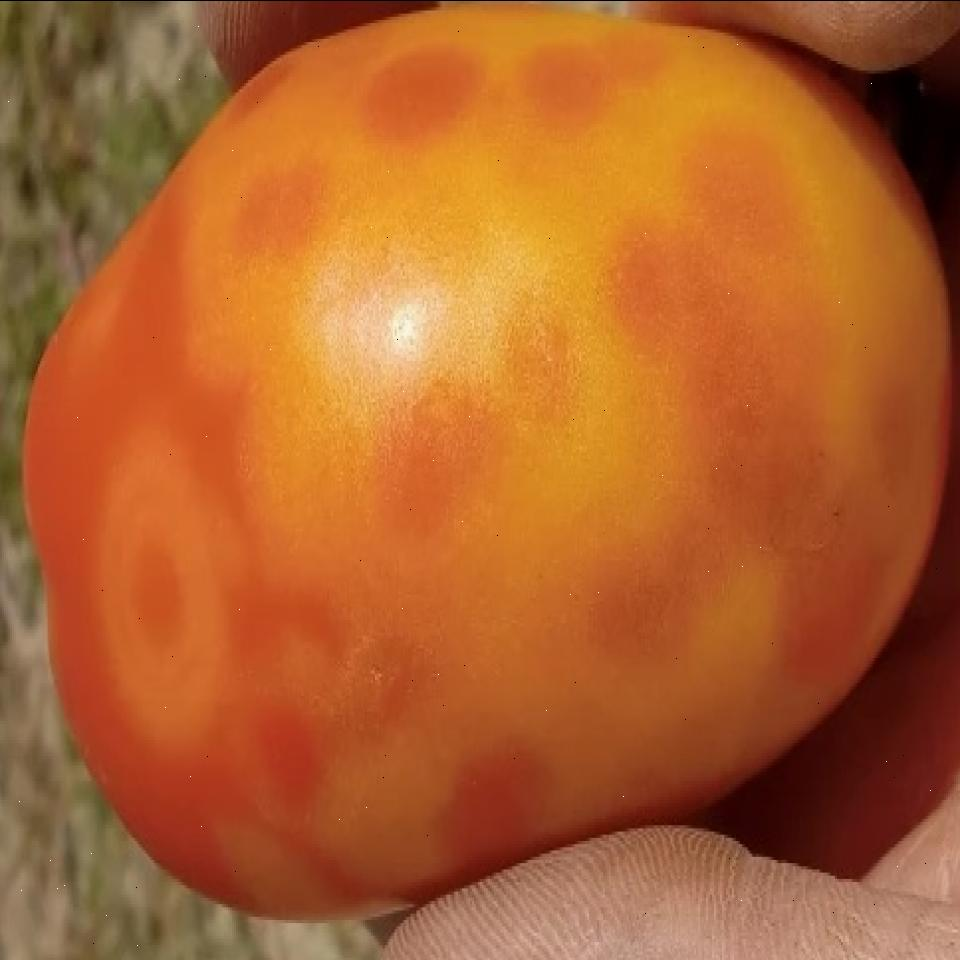Spotted wilt Virus: (26, 3, 956, 922)
